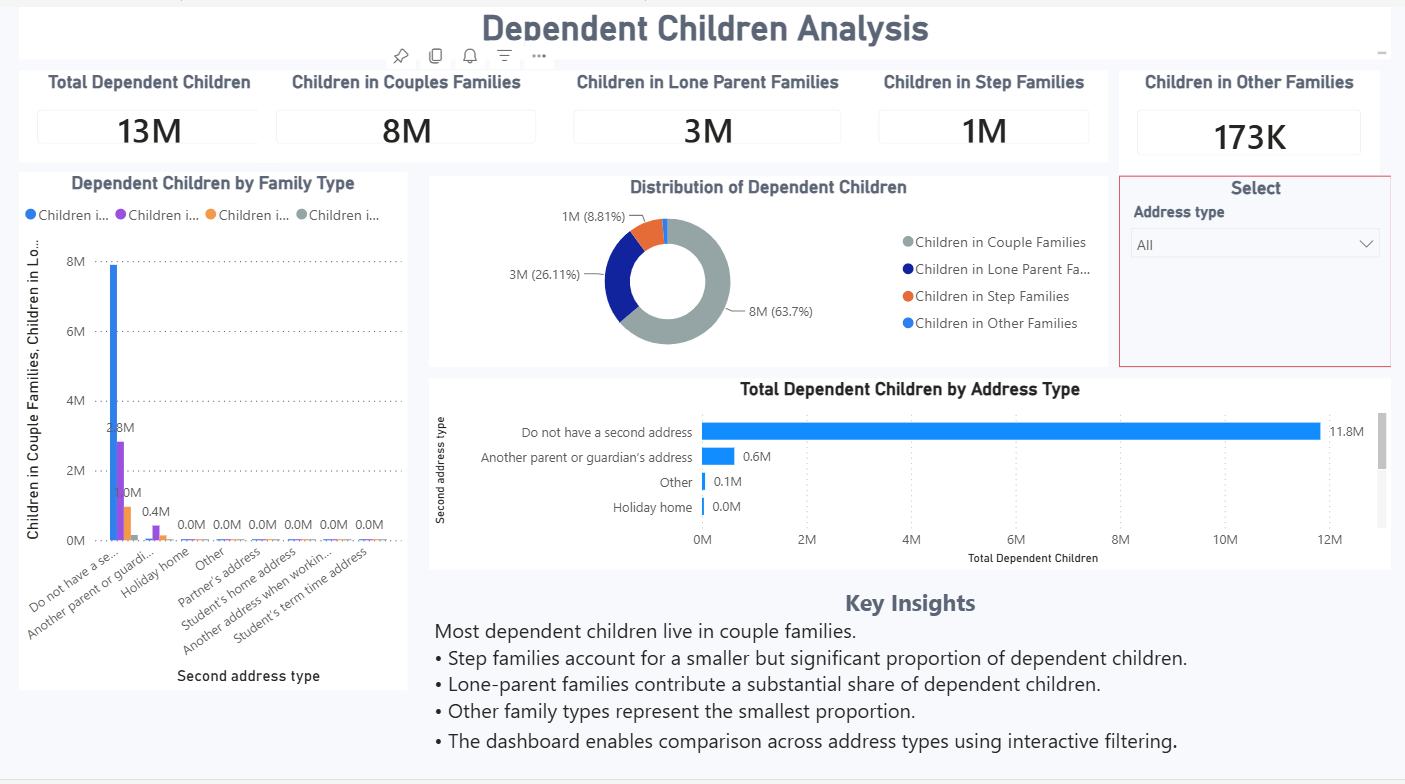

What the dashboard file says about the page in this screenshot:
{"tool":"powerbi","page":{"name":"Dependent Children Analysis","canvas":[1280,720],"ordinal":3},"visuals":[{"type":"textbox","title":"Dependent Children Analysis","box":[0,0,1280.3,48.9],"z":0},{"type":"cardVisual","title":"Total Dependent Children","fields":{"Data":["Dependent Children Analysis.Total Dependent Children"]},"box":[0,59.9,243.3,85.6],"z":1000},{"type":"cardVisual","title":"Children in Couples Families","fields":{"Data":["Dependent Children Analysis.Children in Couple Families"]},"box":[222.6,59.9,277.6,85.6],"z":2000},{"type":"cardVisual","title":"Children in Step Families","fields":{"Data":["Dependent Children Analysis.Children in Step Families"]},"box":[785.1,59.9,231.1,85.6],"z":3000},{"type":"cardVisual","title":"Children in Lone Parent Families","fields":{"Data":["Dependent Children Analysis.Children in Lone Parent Families"]},"box":[500.1,59.9,284.9,85.6],"z":4000},{"type":"cardVisual","title":"Children in Other Families","fields":{"Data":["Dependent Children Analysis.Children in Other Families"]},"box":[1026,59.9,243.3,96.6],"z":5000},{"type":"clusteredColumnChart","title":"Dependent Children by Family Type","fields":{"Category":["Dependent Children Analysis.Second address type"],"Y":["Dependent Children Analysis.Children in Couple Families","Dependent Children Analysis.Children in Lone Parent Families","Dependent Children Analysis.Children in Step Families","Dependent Children Analysis.Children in Other Families"]},"box":[0,154.2,362.1,483.2],"z":6000},{"type":"donutChart","title":"Distribution of Dependent Children","fields":{"Y":["Dependent Children Analysis.Children in Couple Families","Dependent Children Analysis.Children in Lone Parent Families","Dependent Children Analysis.Children in Step Families","Dependent Children Analysis.Children in Other Families"]},"box":[382.7,157.7,633.4,178.5],"z":7000},{"type":"barChart","title":"Total Dependent Children by Address Type","fields":{"Category":["Dependent Children Analysis.Second address type"],"Y":["Dependent Children Analysis.Total Dependent Children"]},"box":[382.7,346.1,897.6,178.5],"z":8000},{"type":"slicer","title":"Select","fields":{"Values":["Dependent Children Analysis.Second address type"]},"box":[1026,157.7,254.3,178.5],"z":9000},{"type":"textbox","box":[382.7,535.6,897.6,184.6],"z":10000}]}

Visuals, with their boxes in screenshot pixels (x1, y1, x2, y2), scaled from the page's 1280x720 canvas onto the 1405x784 screenshot:
"Dependent Children Analysis" textbox: select_region(0, 0, 1404, 53)
"Total Dependent Children" cardVisual: select_region(0, 65, 267, 158)
"Children in Couples Families" cardVisual: select_region(244, 65, 549, 158)
"Children in Step Families" cardVisual: select_region(862, 65, 1115, 158)
"Children in Lone Parent Families" cardVisual: select_region(549, 65, 862, 158)
"Children in Other Families" cardVisual: select_region(1126, 65, 1393, 170)
"Dependent Children by Family Type" clusteredColumnChart: select_region(0, 168, 397, 694)
"Distribution of Dependent Children" donutChart: select_region(420, 172, 1115, 366)
"Total Dependent Children by Address Type" barChart: select_region(420, 377, 1404, 571)
"Select" slicer: select_region(1126, 172, 1404, 366)
textbox: select_region(420, 583, 1404, 783)
